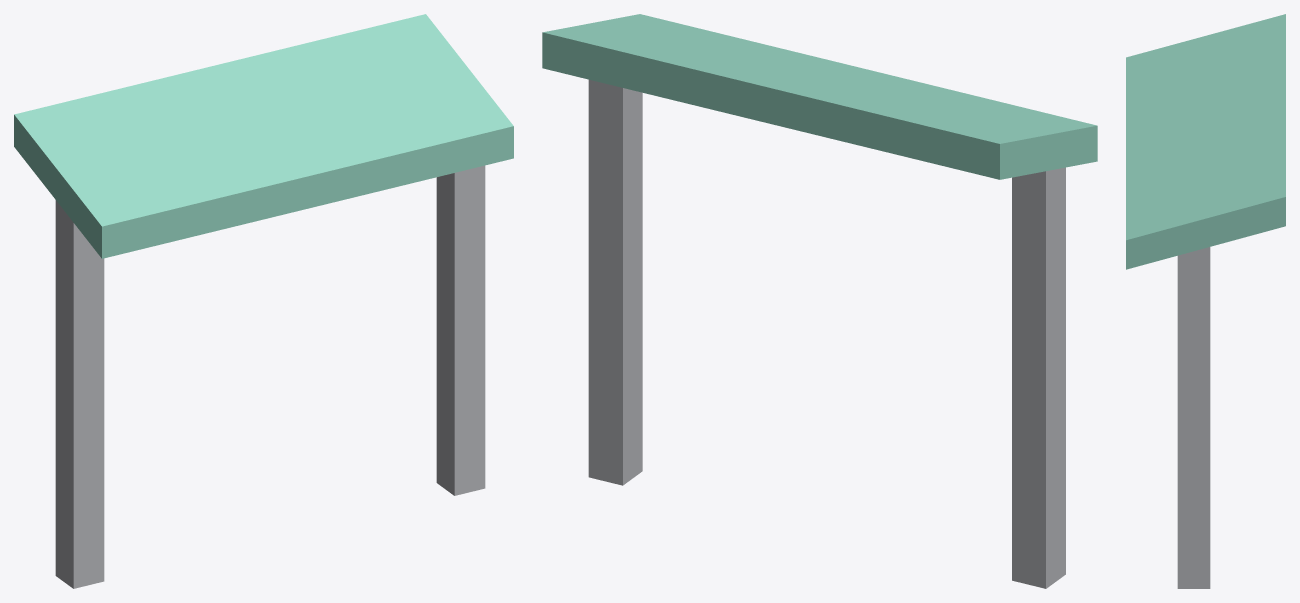
File: detail_awning.glb
3 views of the same model, side by side, from view 1: azimuth 30°, elevation 25°; view 2: azimuth 150°, elevation 25°; view 3: azimuth 270°, elevation 25° (orthographic). The views are drawn at different scales.
Visible parts, largest first — view 1: detail_awning; view 2: detail_awning; view 3: detail_awning.
Part boxes in pixels (x1,y1,x2,y2): detail_awning: [14, 14, 513, 588]; detail_awning: [542, 14, 1097, 588]; detail_awning: [1126, 14, 1285, 588].
Size of the model in its own units: 0.4 by 0.4 by 0.1479.
